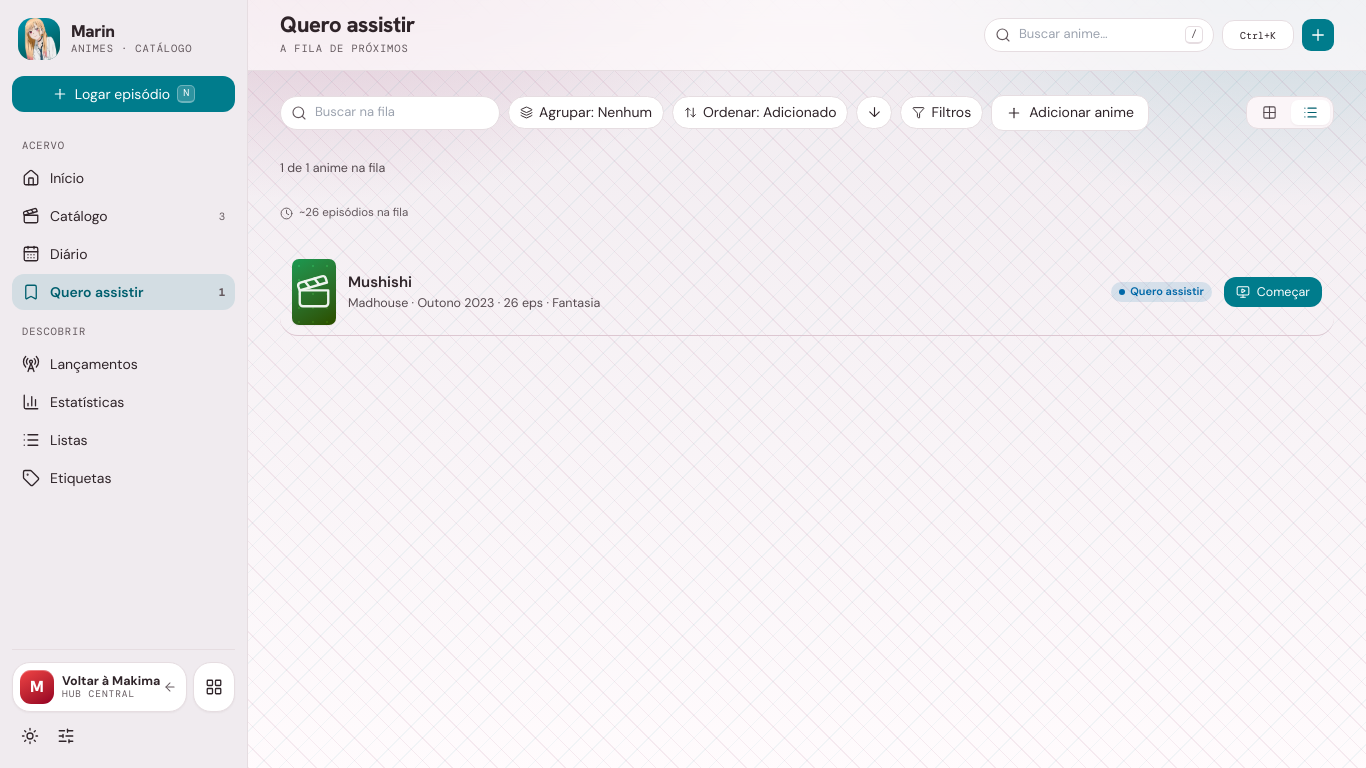
Test: Catálogo e Quero assistir › "Começar" na fila (modo lista) abre o formulário já no episódio 1
The image size is (1366, 768).
Expected: the text "Mushishi" is shown, [348,273,412,291]
Click the button "Começar": (1273, 292) [1224,277,1322,307]
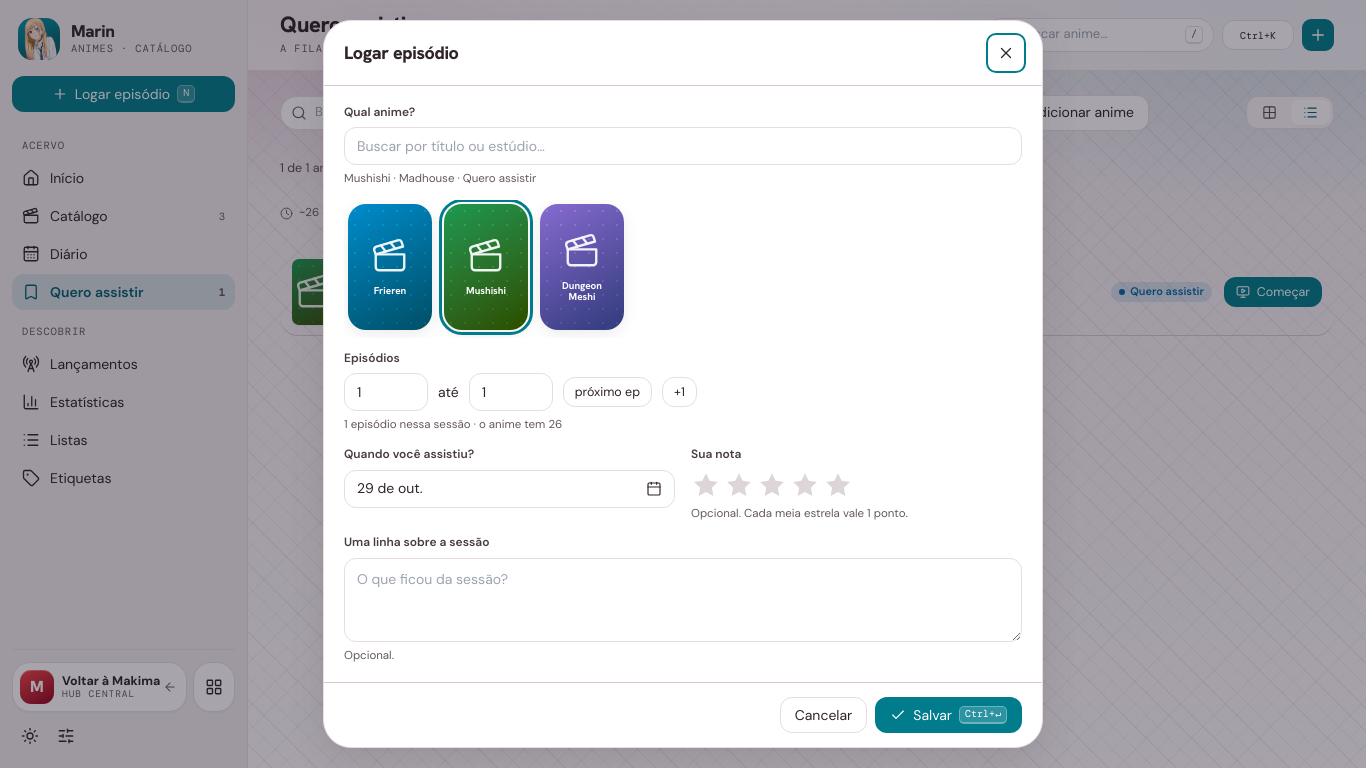
Expected: the number field named "Primeiro episódio" holds "1", [344,374,428,412]
